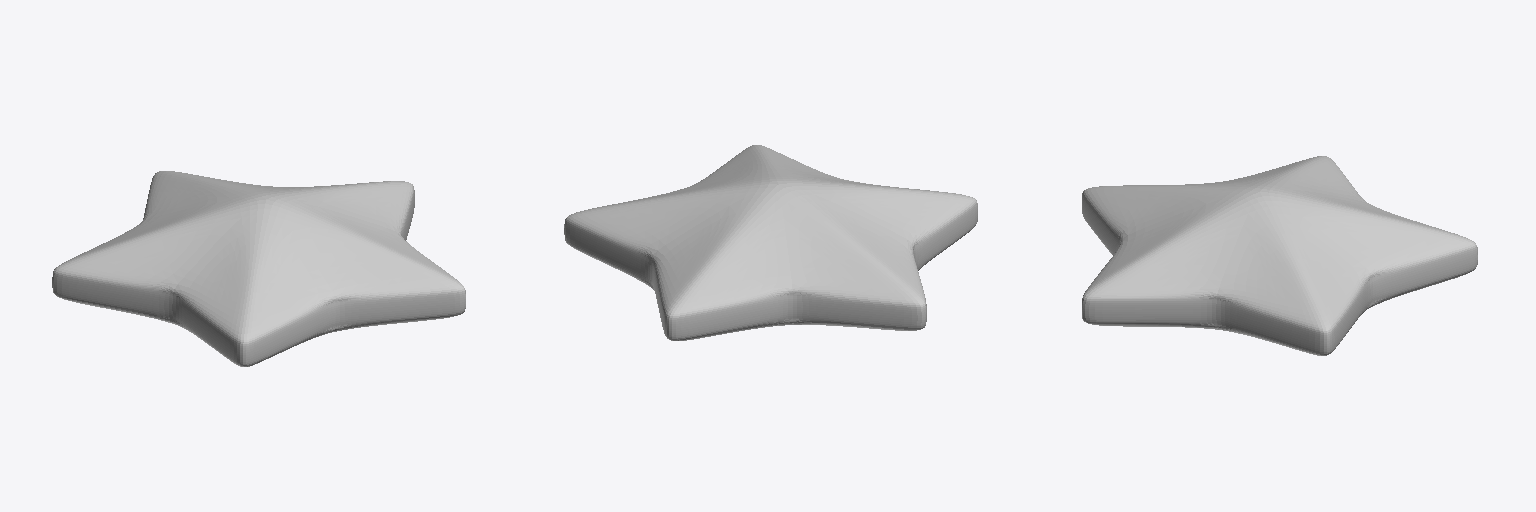
3 renders of one model, left to right at view 1: azimuth 30°, elevation 25°; view 2: azimuth 150°, elevation 25°; view 3: azimuth 270°, elevation 25°, orthographic.
Visible parts, largest first — view 1: Star; view 2: Star; view 3: Star.
Part boxes in pixels (x1,y1,x2,y2): Star: (52,171,465,366); Star: (564,145,977,340); Star: (1082,156,1477,355).
Size of the model in its own units: 1.82 by 0.6179 by 1.74.